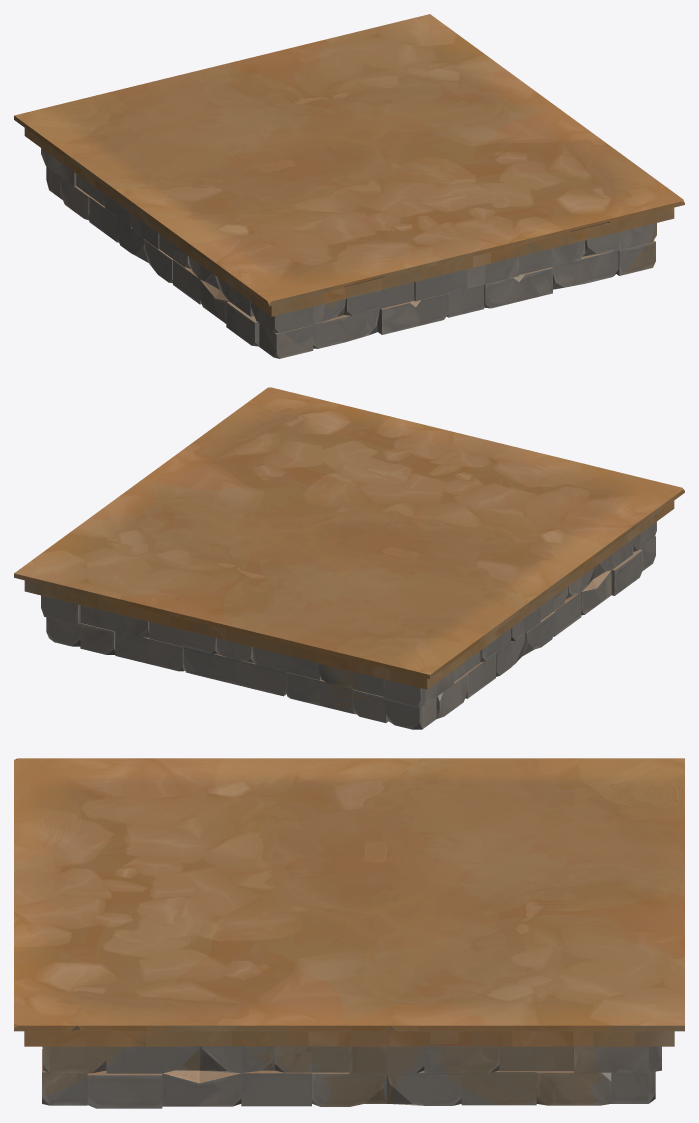
File: plataforma_movil.fbx
3 renders of one model, top to bottom at view 1: azimuth 30°, elevation 25°; view 2: azimuth 150°, elevation 25°; view 3: azimuth 270°, elevation 25°, orthographic. The views are drawn at different scales.
Visible parts, largest first — view 1: PLATAFORMA_PUENTE; view 2: PLATAFORMA_PUENTE; view 3: PLATAFORMA_PUENTE.
Part boxes in pixels (x1,y1,x2,y2): PLATAFORMA_PUENTE: [14, 14, 684, 358]; PLATAFORMA_PUENTE: [14, 387, 684, 729]; PLATAFORMA_PUENTE: [14, 758, 684, 1108].
Size of the model in its own units: 497 by 85.36 by 527.
